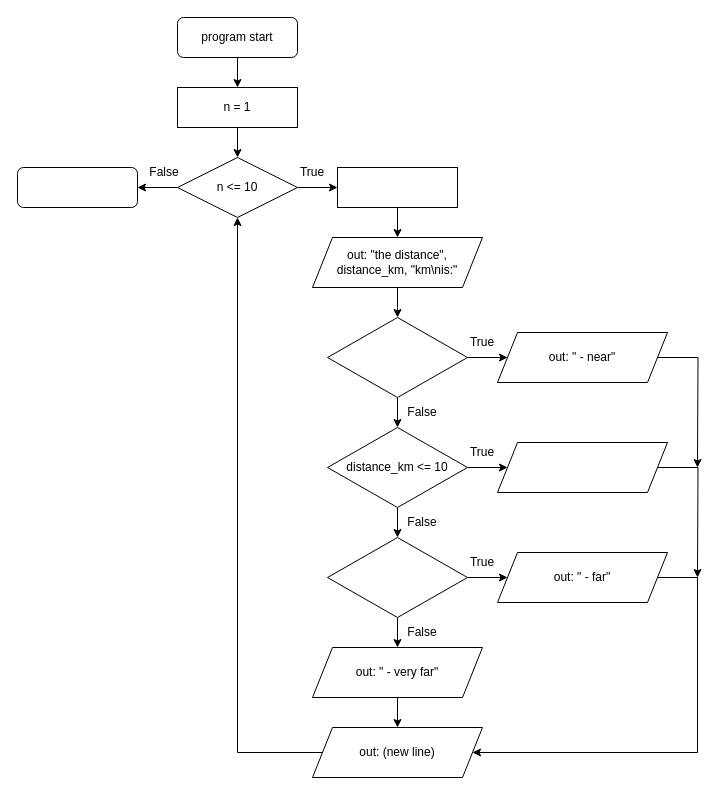
The diagram is 724 pixels wide and 795 high, and some of its shapes have lost their labels. The centre of each missing label's shape, as x and y in pixels:
distance_km <= 1: point 397,357
distance_km <= 100: point 397,577
distance_km = randint(-20, 120): point 397,187
out: " - close": point 582,467
program stop: point 77,187
